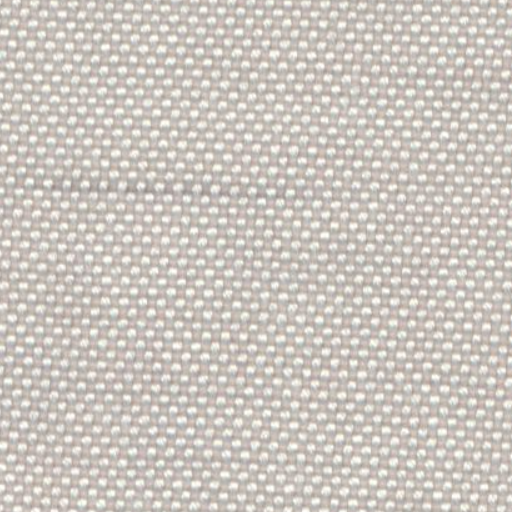WuZi: (28, 162, 224, 207)
